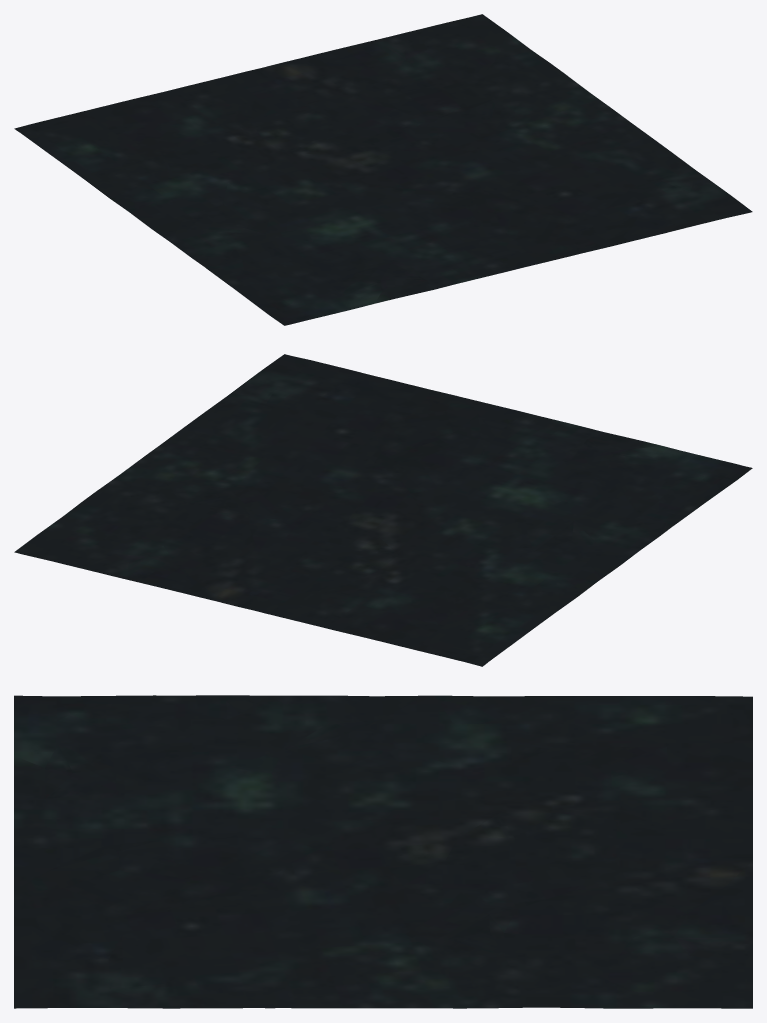
3 renders of one model, top to bottom at view 1: azimuth 30°, elevation 25°; view 2: azimuth 150°, elevation 25°; view 3: azimuth 270°, elevation 25°, orthographic. The views are drawn at different scales.
Bounding box in the file's own units: 52.22 × 0.1841 × 52.22.
3 materials, 3 textured.
